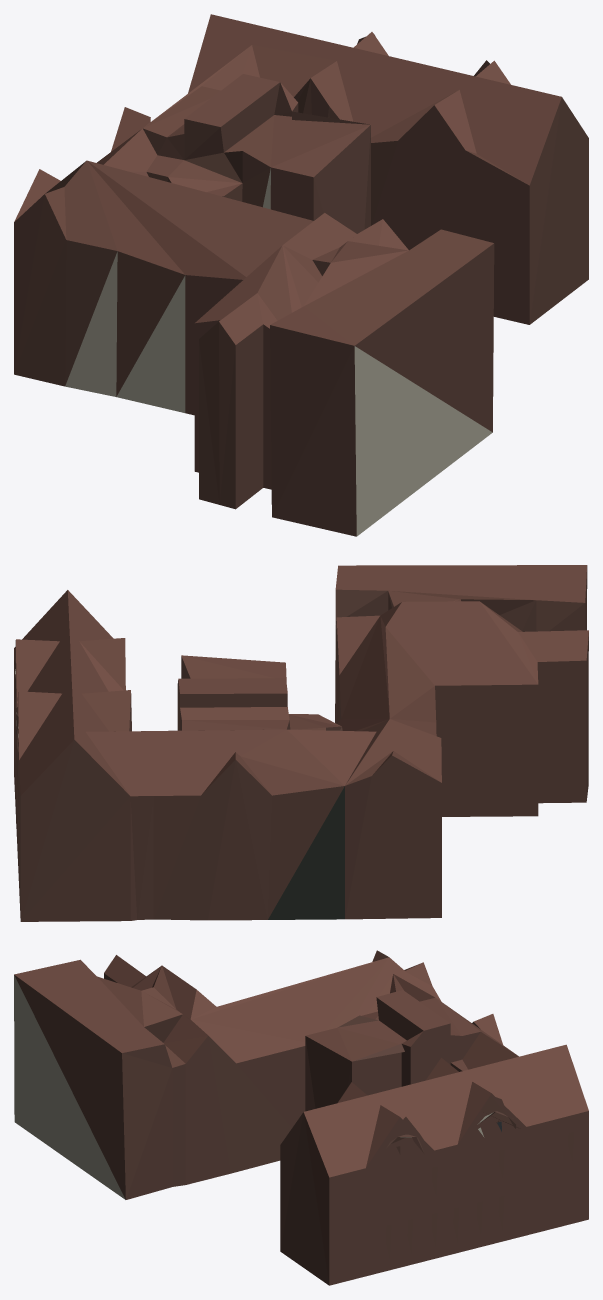
File: mauritskade-61.lod2.glb
3 views of the same model, one above another, from view 1: azimuth 30°, elevation 25°; view 2: azimuth 150°, elevation 25°; view 3: azimuth 270°, elevation 25° (orthographic). The views are drawn at different scales.
Parts seen in each view (by area): view 1: lod2; view 2: lod2; view 3: lod2.
Boxes of the visible parts, bbox=[...] form: lod2: bbox=[14, 14, 588, 536]; lod2: bbox=[14, 565, 588, 921]; lod2: bbox=[14, 950, 588, 1285].
Bounding box in the file's own units: 54.04 × 21.07 × 66.48.
